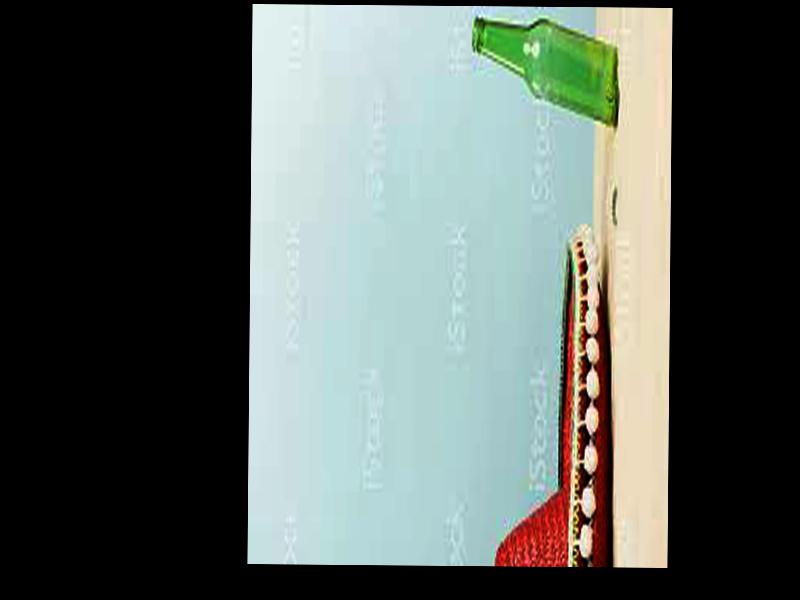Beer: (470, 21, 622, 129)
